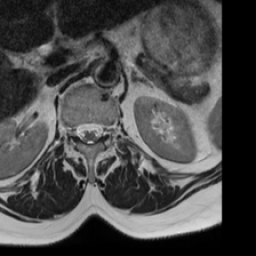CCS_normal: (84, 113, 93, 152)
LFS_normal: (103, 114, 112, 145)
LLS_normal: (93, 113, 103, 146)
RFS_normal: (67, 116, 75, 144)
RLS_normal: (75, 114, 84, 146)
